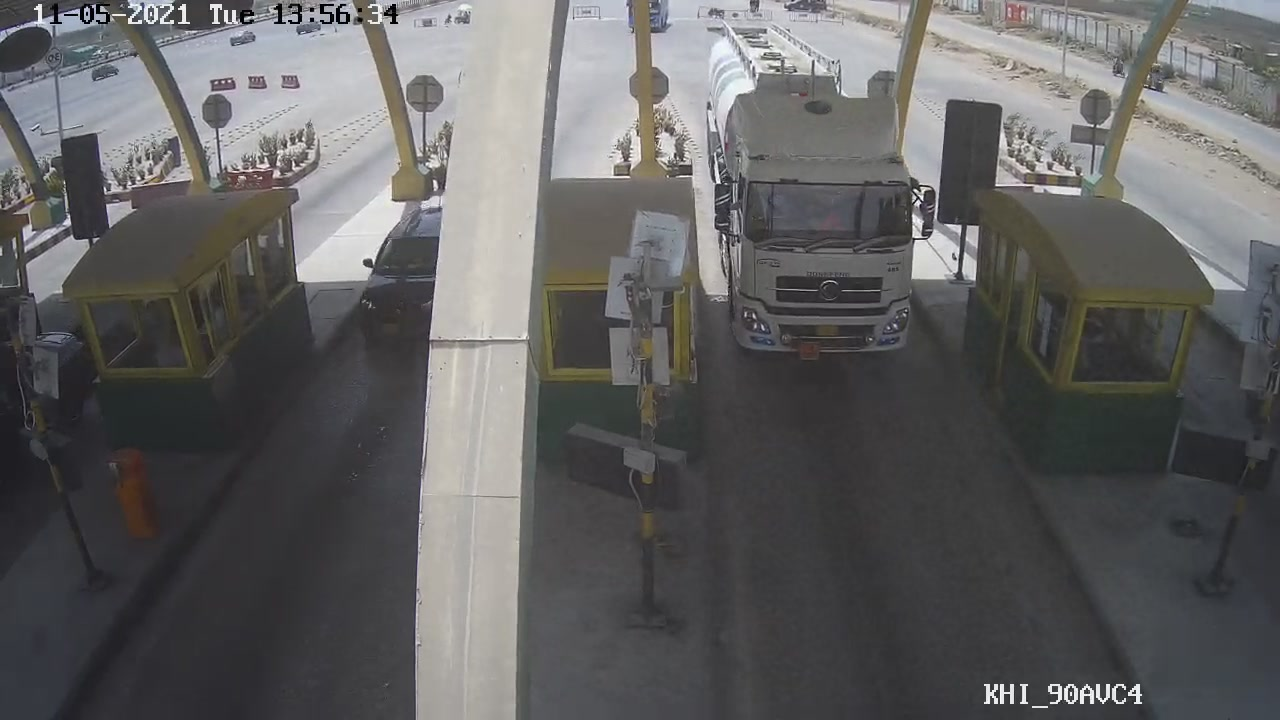F6: (702, 16, 925, 363)
